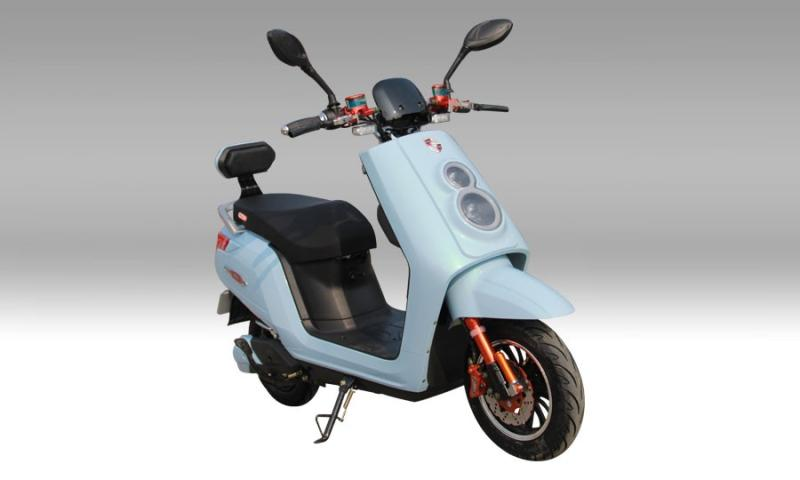电动车: (166, 12, 618, 470)
